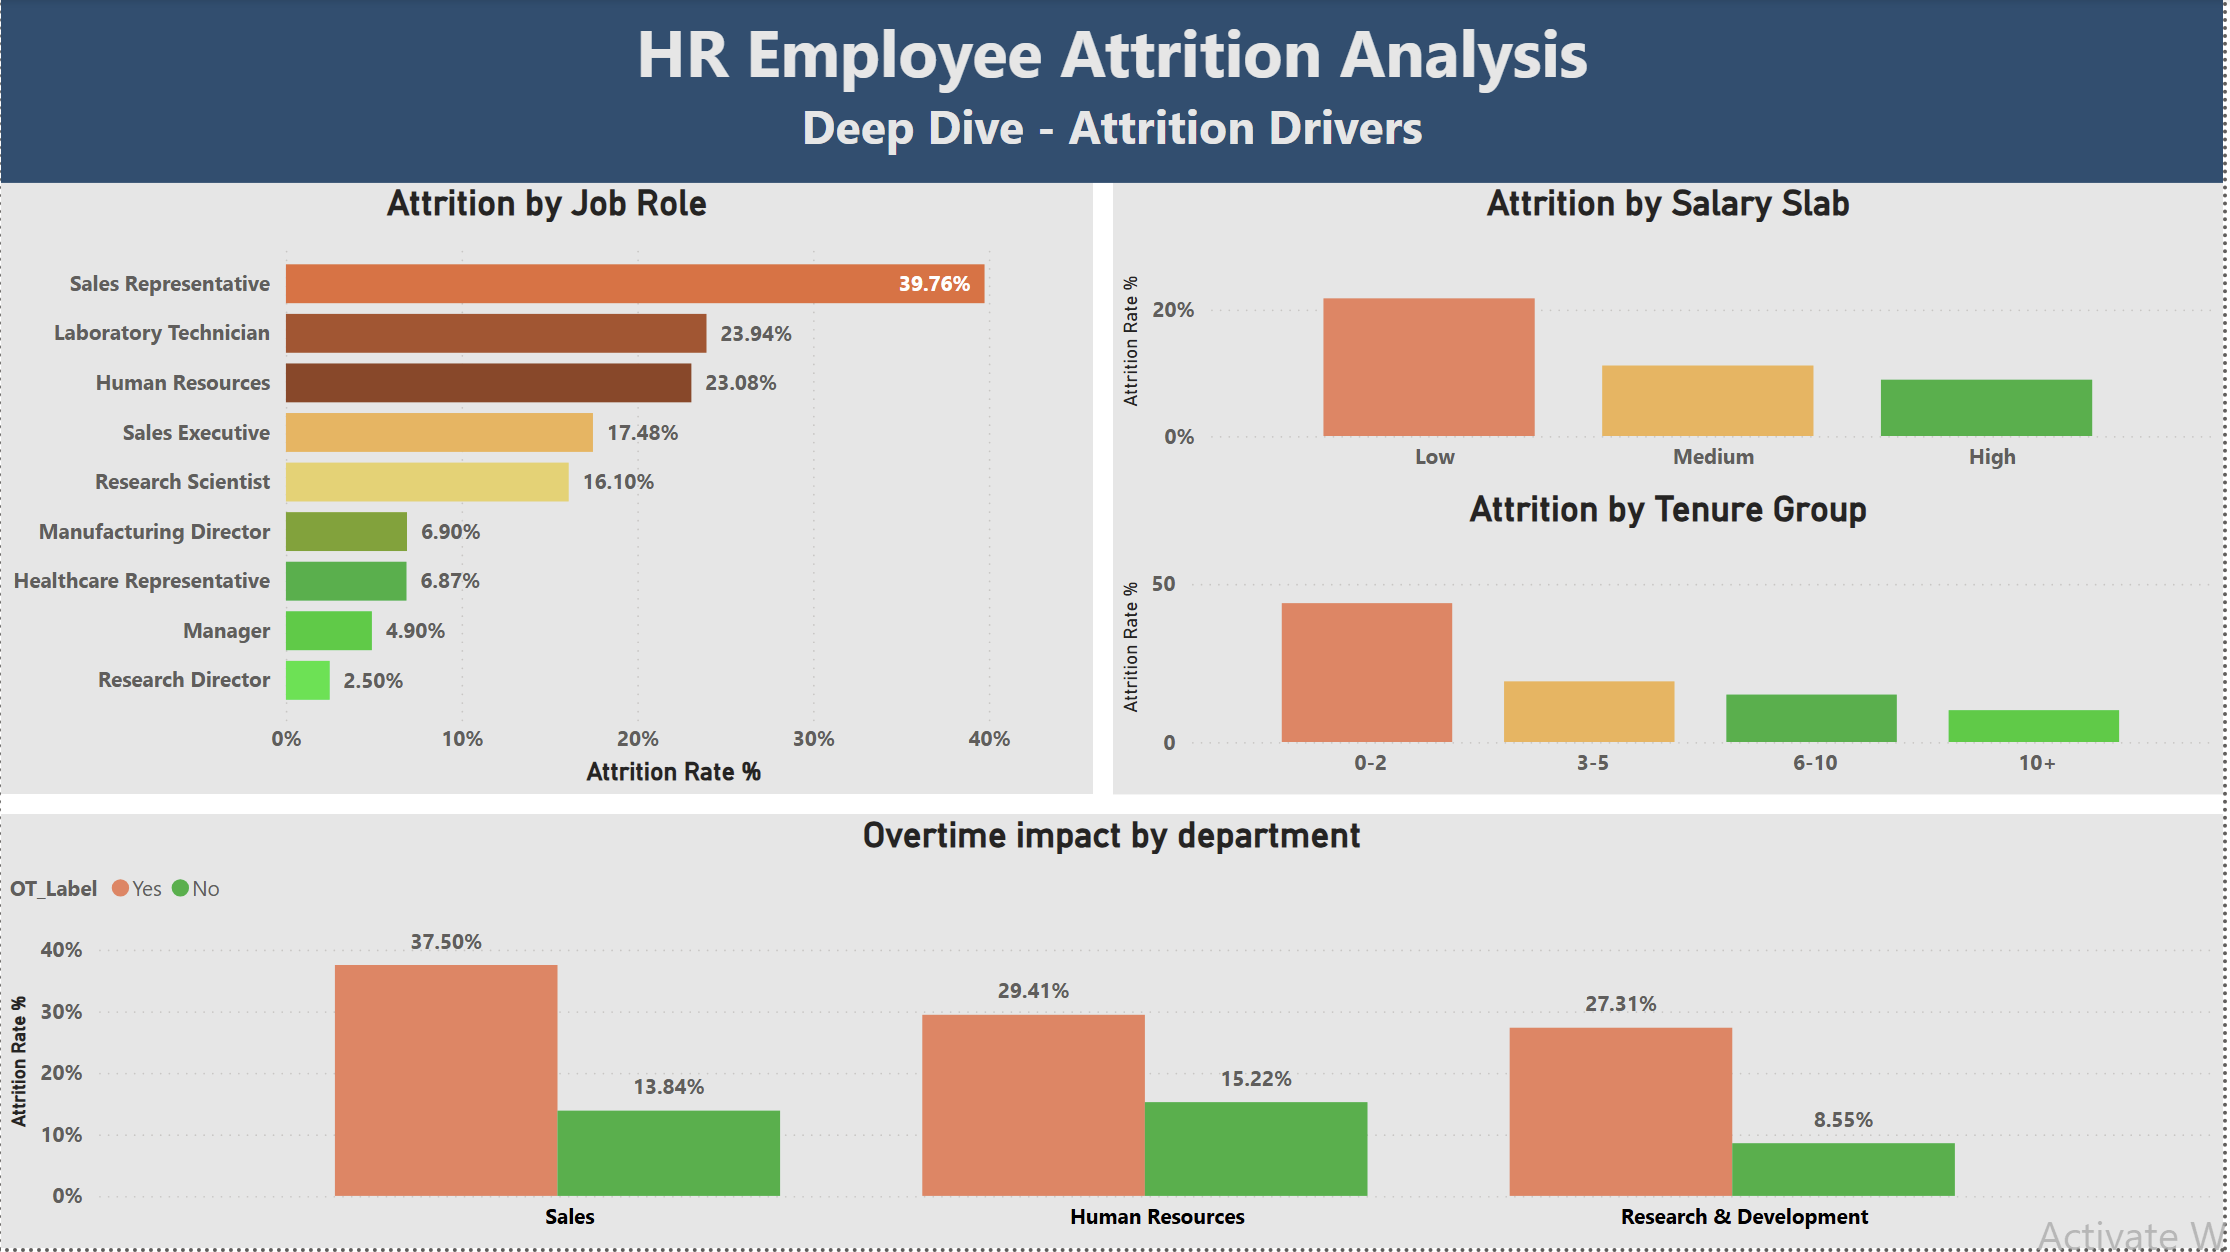

The page's visual inventory and layout, read from the dashboard file:
{"tool":"powerbi","page":{"name":"Attrition_drivers","canvas":[1280,720],"ordinal":1},"visuals":[{"type":"clusteredBarChart","title":"Attrition by Job Role","fields":{"Y":["HR-Employee-Attrition_Clean.Attrition Rate %"],"Category":["HR-Employee-Attrition_Clean.JobRole"]},"box":[0,106.3,629.1,352.6],"z":0},{"type":"clusteredColumnChart","title":"Overtime impact by department ","fields":{"Y":["HR-Employee-Attrition_Clean.Attrition Rate %"],"Category":["HR-Employee-Attrition_Clean.Department"],"Series":["HR-Employee-Attrition_Clean.OT_Label"]},"box":[0,469.7,1280,250],"z":1000},{"type":"columnChart","title":"Attrition by Salary Slab","fields":{"Category":["HR-Employee-Attrition_Clean.Salary_slab"],"Y":["HR-Employee-Attrition_Clean.Attrition Rate %"]},"box":[640,106.3,640,176.3],"z":2000},{"type":"textbox","box":[0,0,1280,106.4],"z":3000},{"type":"columnChart","title":"Attrition by Tenure Group","fields":{"Y":["HR-Employee-Attrition_Clean.Attrition Rate %"],"Category":["HR-Employee-Attrition_Clean.Tenure_Group"]},"box":[640,282.6,640,176.3],"z":4000}]}

Visuals, with their boxes in screenshot pixels (x1, y1, x2, y2), scaled from the page's 1280x720 canvas onto the 2230x1252 screenshot:
"Attrition by Job Role" clusteredBarChart: [x1=0, y1=185, x2=1096, y2=798]
"Overtime impact by department " clusteredColumnChart: [x1=0, y1=817, x2=2229, y2=1251]
"Attrition by Salary Slab" columnChart: [x1=1115, y1=185, x2=2229, y2=491]
textbox: [x1=0, y1=0, x2=2229, y2=185]
"Attrition by Tenure Group" columnChart: [x1=1115, y1=491, x2=2229, y2=798]
